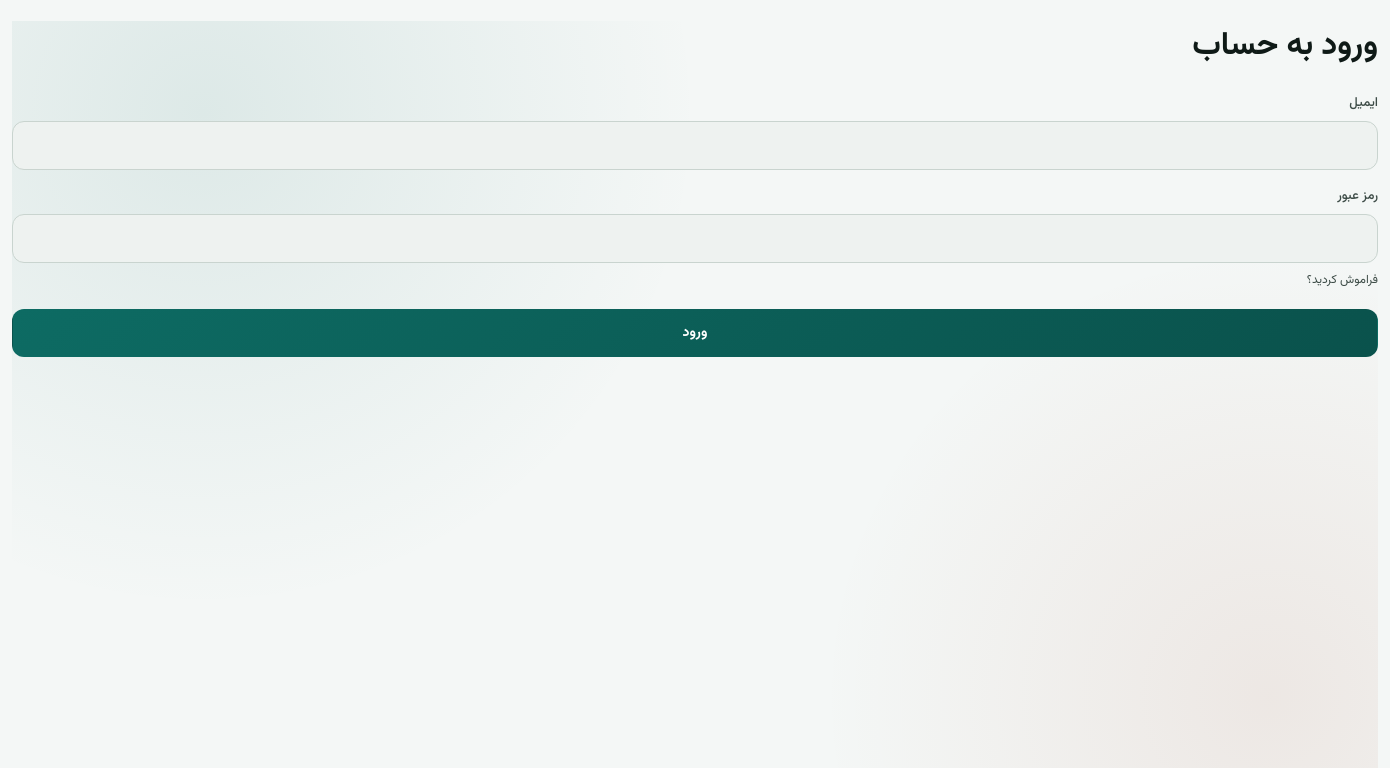
Test: LoginView validation › requires password
Type "a@b.co" into the field with id "login-email" at (695, 145), box [12,121,1378,170]
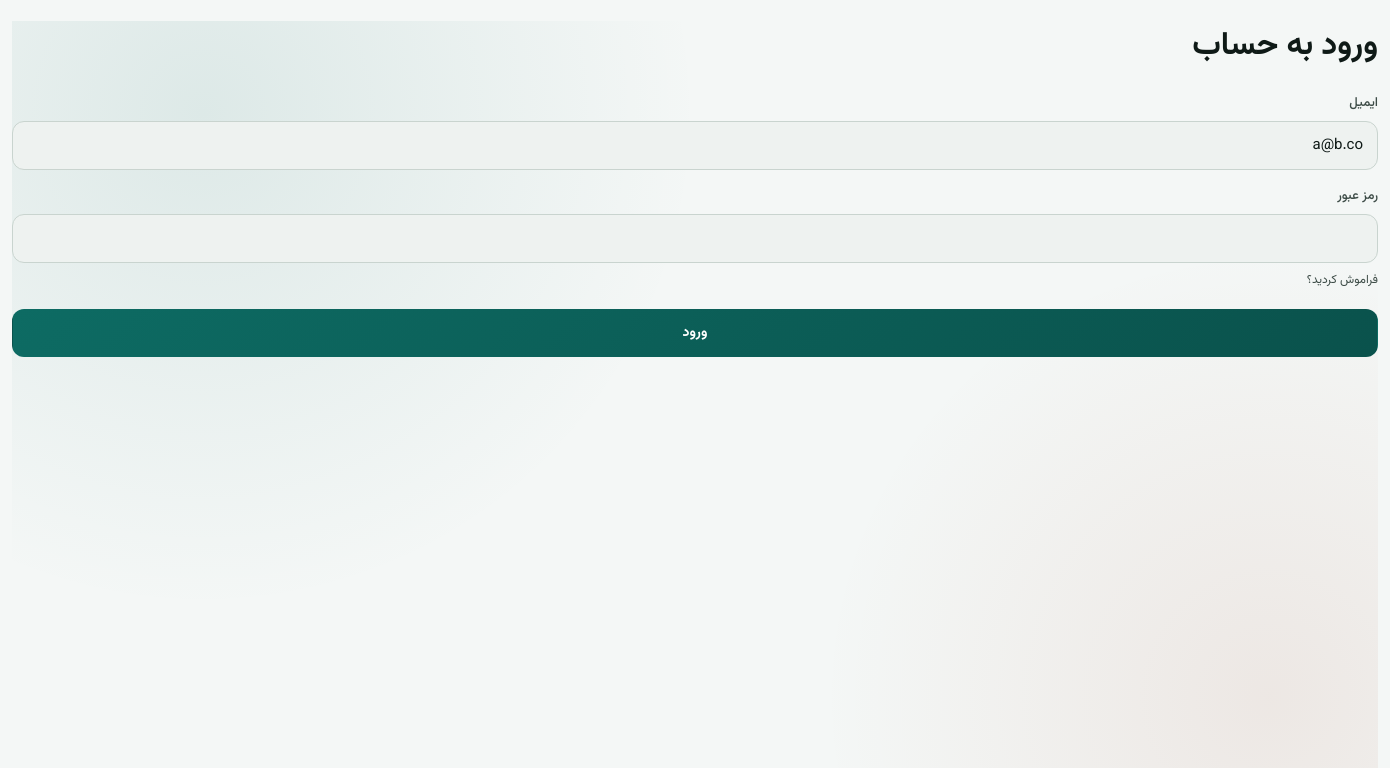
Submit the form with id "login-email", box [12,93,1378,357]
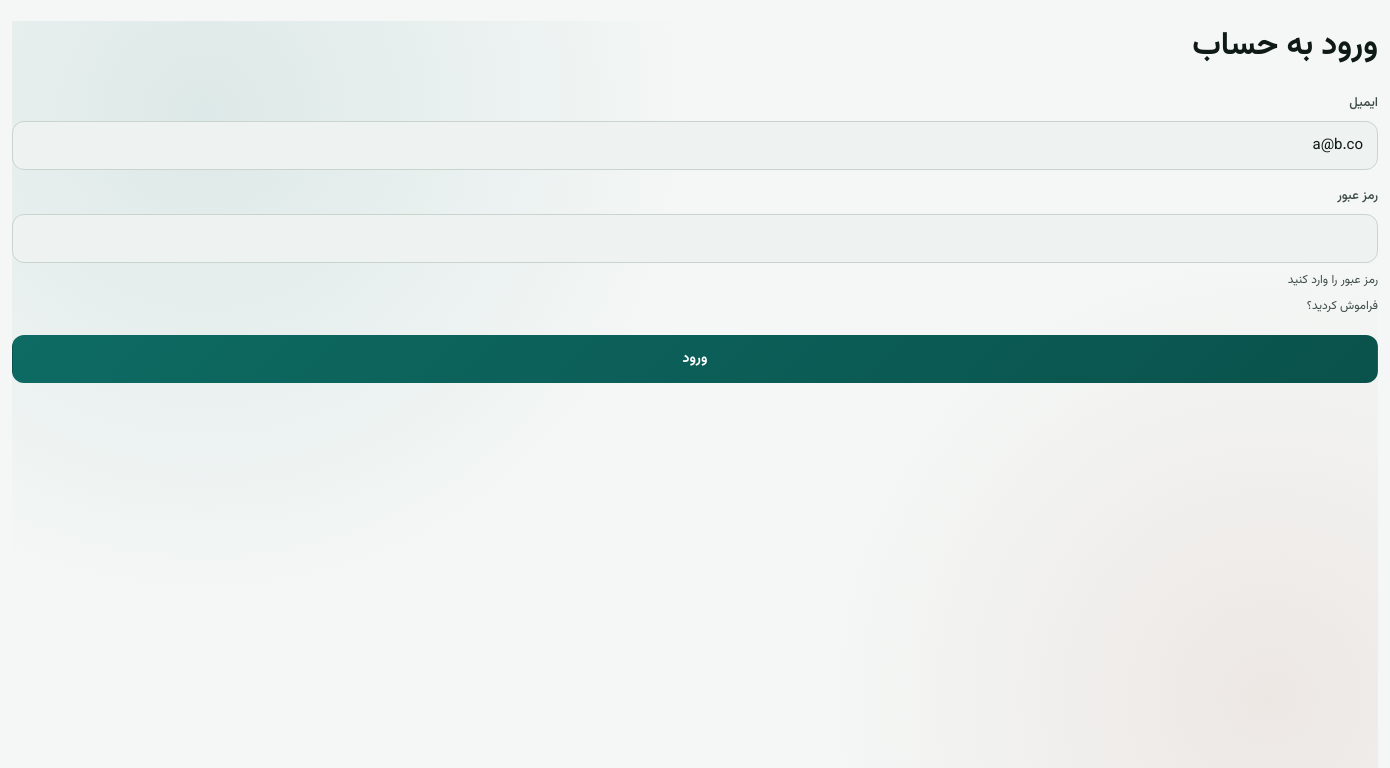
Now the text "رمز عبور را وارد کنید" is shown, box [1288,271,1378,289]
